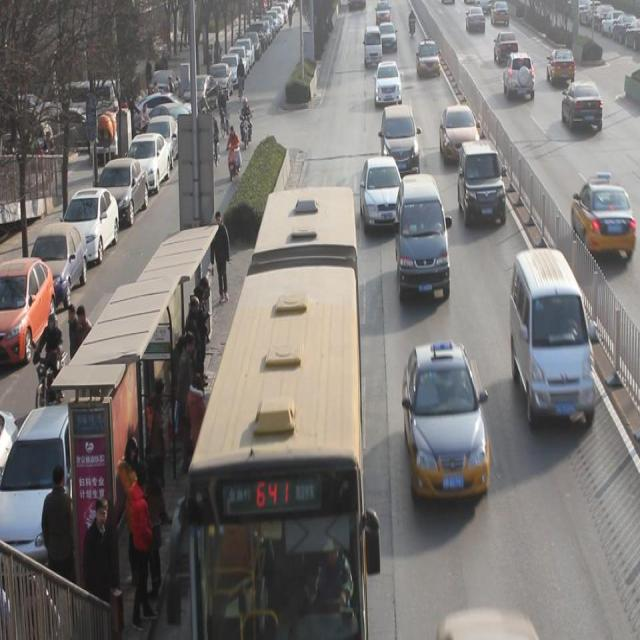car: (402, 342, 491, 499), (571, 175, 640, 258), (458, 140, 507, 227), (360, 156, 404, 232), (380, 104, 420, 172), (439, 105, 480, 162), (562, 80, 603, 131), (504, 52, 535, 101), (375, 60, 403, 106), (547, 46, 576, 84), (416, 40, 441, 78), (494, 31, 519, 64), (466, 1, 487, 31), (379, 20, 398, 52)
truck: (511, 248, 596, 428), (395, 173, 451, 301), (364, 26, 382, 69)
van: (193, 189, 365, 640)
